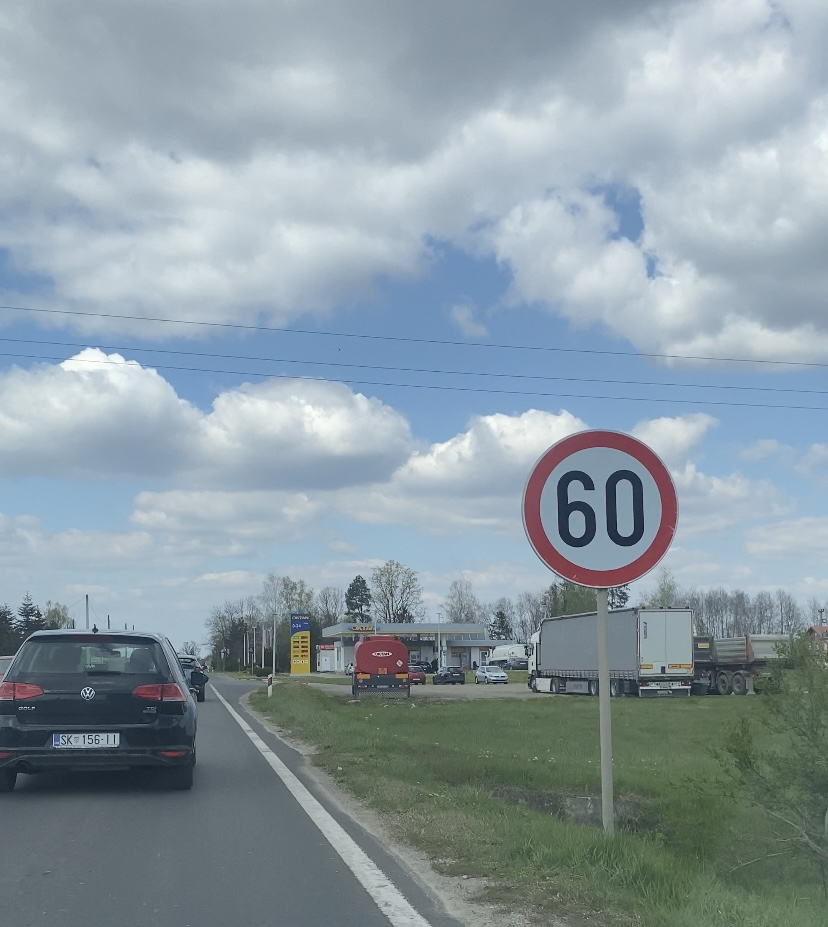Ograničenje brzine 60: (521, 428, 680, 590)
